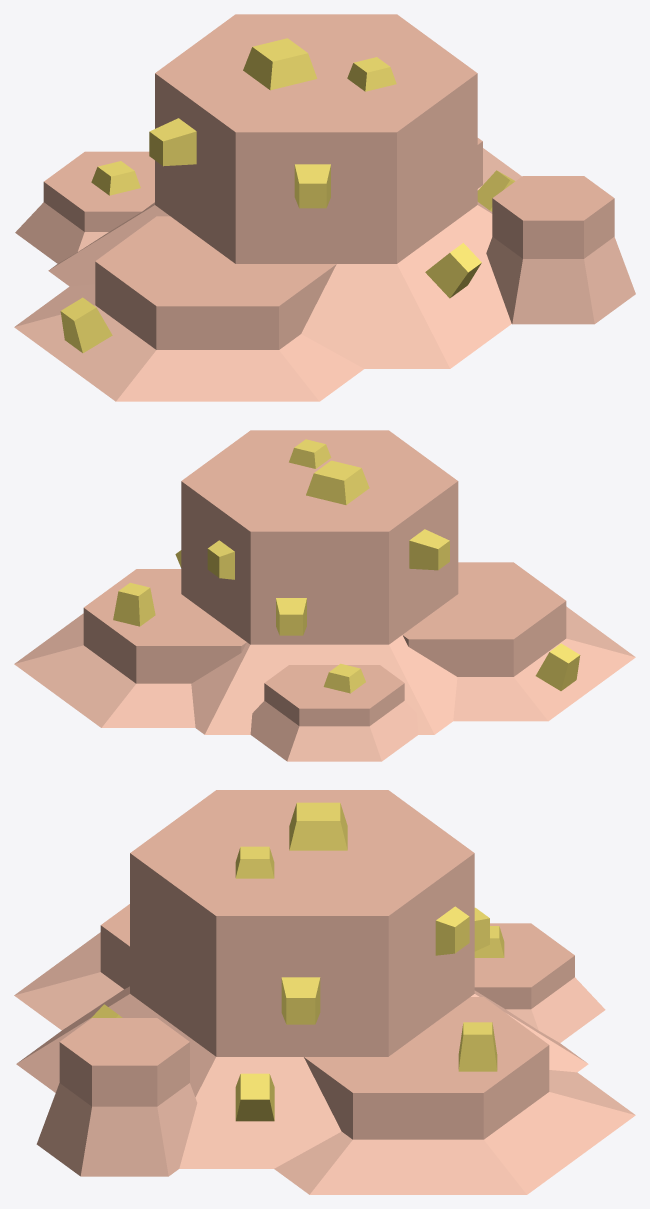
Rendered from rock_crystalsYellow.glb.
The picture shows the model from 3 angles, top to bottom: view 1: azimuth 30°, elevation 25°; view 2: azimuth 150°, elevation 25°; view 3: azimuth 270°, elevation 25°; orthographic projection. The views are drawn at different scales.
Parts seen in each view (by area): view 1: rock_crystals; view 2: rock_crystals; view 3: rock_crystals.
Part boxes in pixels (box(x1,y1,x2,y2)): rock_crystals: box(14, 14, 635, 401); rock_crystals: box(14, 430, 635, 761); rock_crystals: box(14, 790, 635, 1194).
Size of the model in its own units: 0.8509 by 0.3375 by 0.8015.
